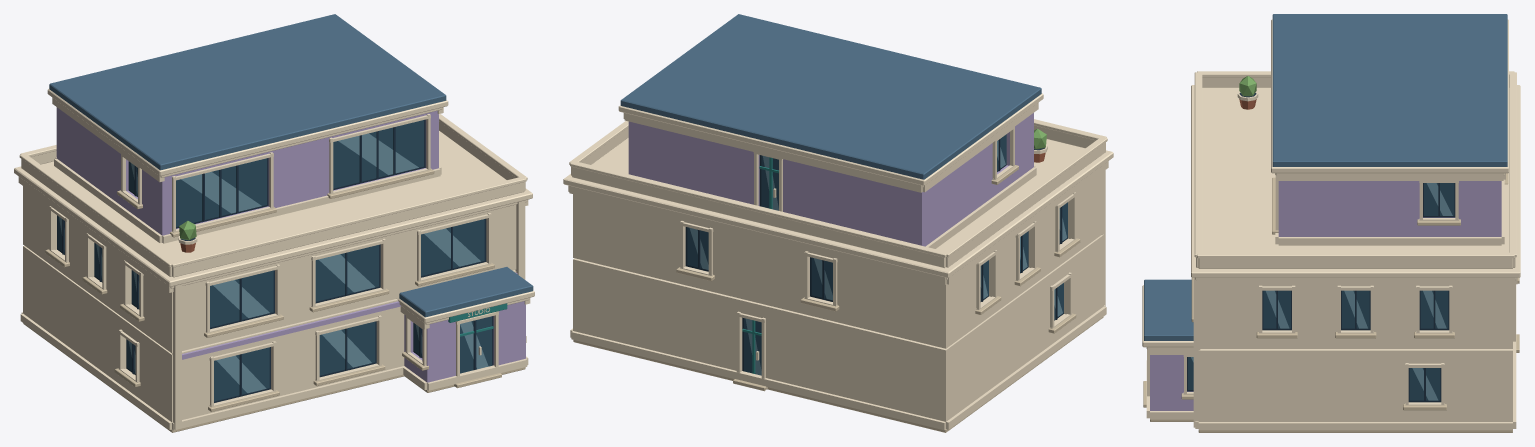
Rendered from design_studio.glb.
3 views of the same model, side by side, from view 1: azimuth 30°, elevation 25°; view 2: azimuth 150°, elevation 25°; view 3: azimuth 270°, elevation 25° (orthographic). The views are drawn at different scales.
Visible parts, largest first — view 1: DesignStudio_StaticMesh; view 2: DesignStudio_StaticMesh; view 3: DesignStudio_StaticMesh.
Boxes of the visible parts, x1,y1,x2,y2 form: DesignStudio_StaticMesh: (14, 14, 534, 432); DesignStudio_StaticMesh: (563, 14, 1113, 432); DesignStudio_StaticMesh: (1142, 14, 1520, 432).
Bounding box in the file's own units: 15.52 × 9.66 × 13.22.
